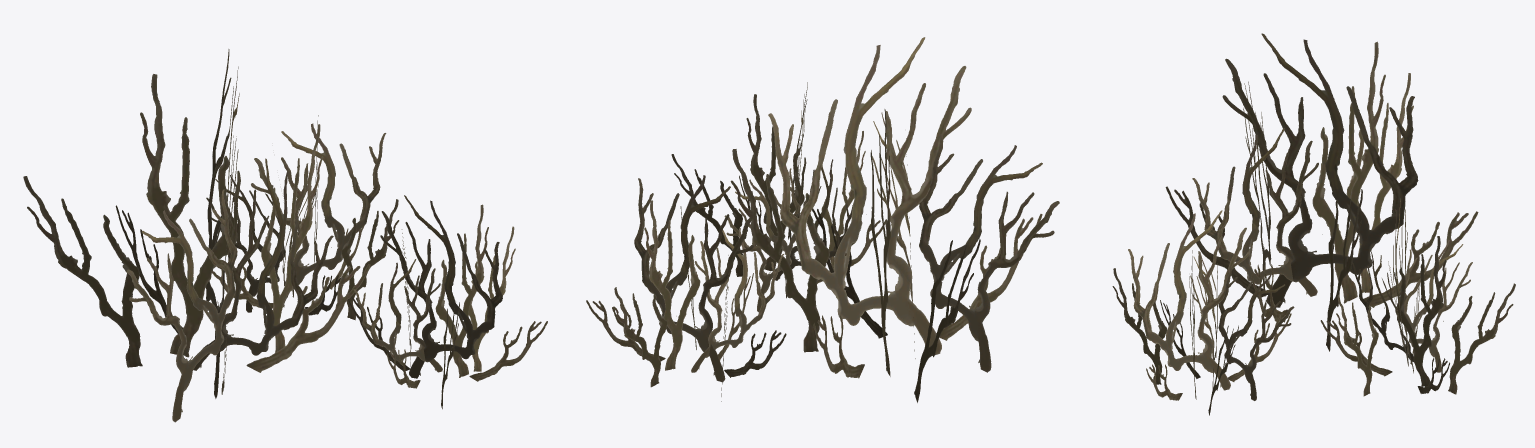
The model's file is Area_05_14.fbx.
3 renders of one model, left to right at view 1: azimuth 30°, elevation 25°; view 2: azimuth 150°, elevation 25°; view 3: azimuth 270°, elevation 25°, orthographic. The views are drawn at different scales.
Visible parts, largest first — view 1: Area_05_14; view 2: Area_05_14; view 3: Area_05_14.
Part boxes in pixels (x1,y1,x2,y2): Area_05_14: [23, 49, 547, 422]; Area_05_14: [586, 37, 1059, 402]; Area_05_14: [1112, 33, 1515, 415].
Bounding box in the file's own units: 365 × 278 × 345.
1 material, 1 textured.
